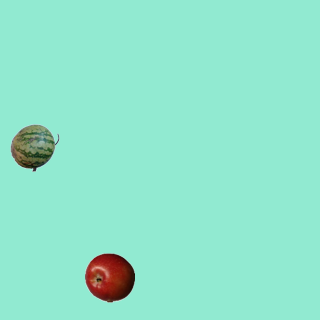Apple Braeburn: (84, 252, 134, 302)
Watermelon: (9, 122, 59, 172)
